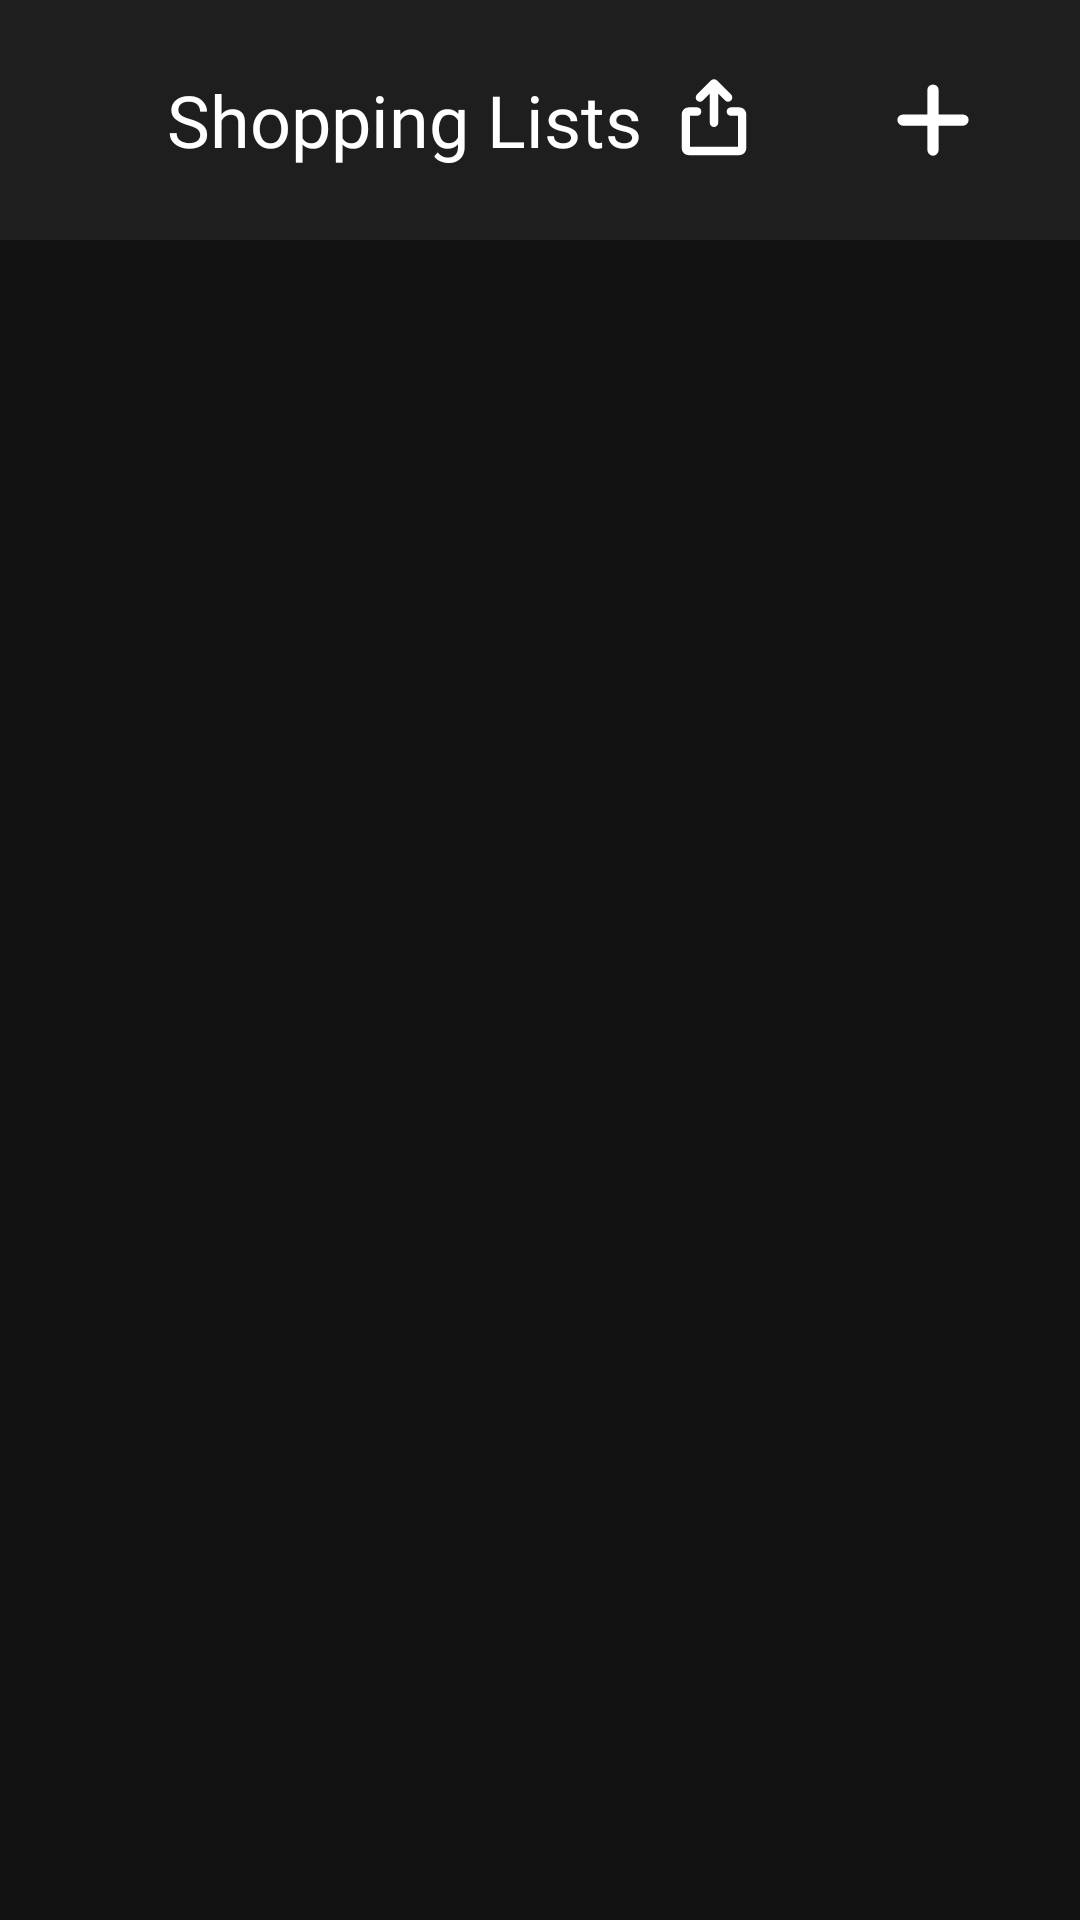

Icons on this 1080 x 1920 Android screen, each with its box as {"left": x1, "top": y1, "right": x2, "bottom": y2}:
add: {"left": 897, "top": 84, "right": 969, "bottom": 156}
export: {"left": 681, "top": 79, "right": 747, "bottom": 156}
